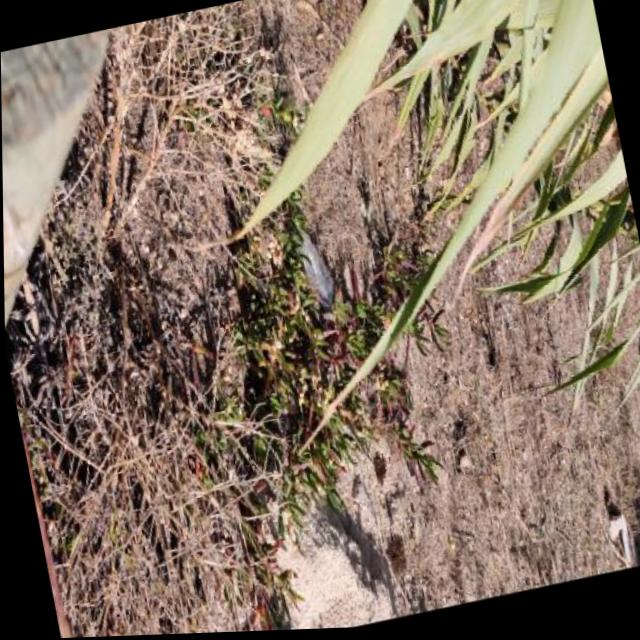plastic: (289, 221, 347, 330)
